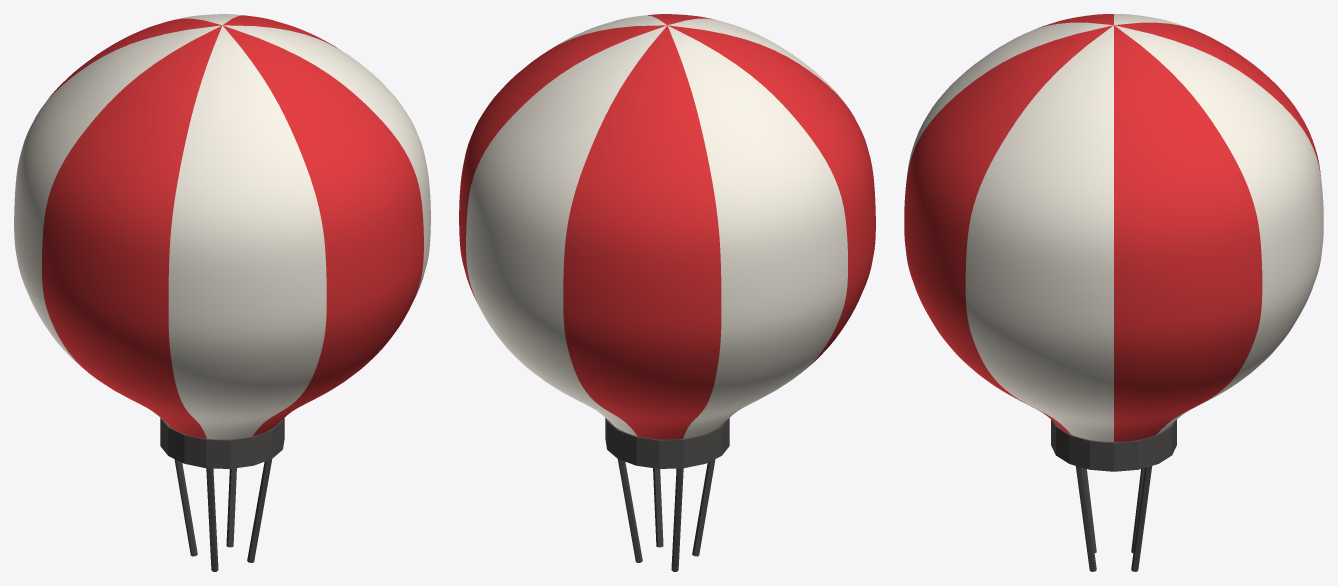
The model's file is hot_air_balloon.glb.
3 views of the same model, side by side, from view 1: azimuth 30°, elevation 25°; view 2: azimuth 150°, elevation 25°; view 3: azimuth 270°, elevation 25° (orthographic).
Parts seen in each view (by area): view 1: HotAirBalloon_Envelope, HotAirBalloon_Holder; view 2: HotAirBalloon_Envelope, HotAirBalloon_Holder; view 3: HotAirBalloon_Envelope, HotAirBalloon_Holder.
Boxes of the visible parts, x1,y1,x2,y2 form: HotAirBalloon_Envelope: (14,14,430,439); HotAirBalloon_Holder: (160,418,284,571); HotAirBalloon_Envelope: (459,14,875,439); HotAirBalloon_Holder: (605,418,729,571); HotAirBalloon_Envelope: (904,14,1323,441); HotAirBalloon_Holder: (1051,420,1176,571).
Bounding box in the file's own units: 1.87 × 2.63 × 1.87.
